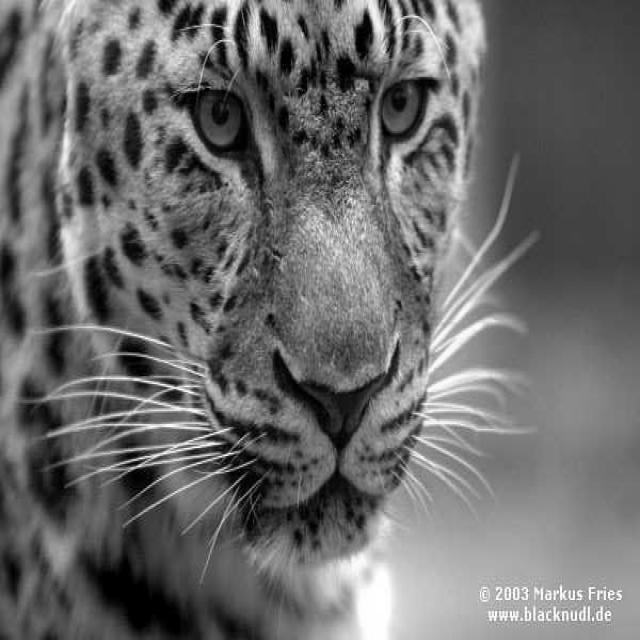Leopard: (0, 0, 538, 638)
